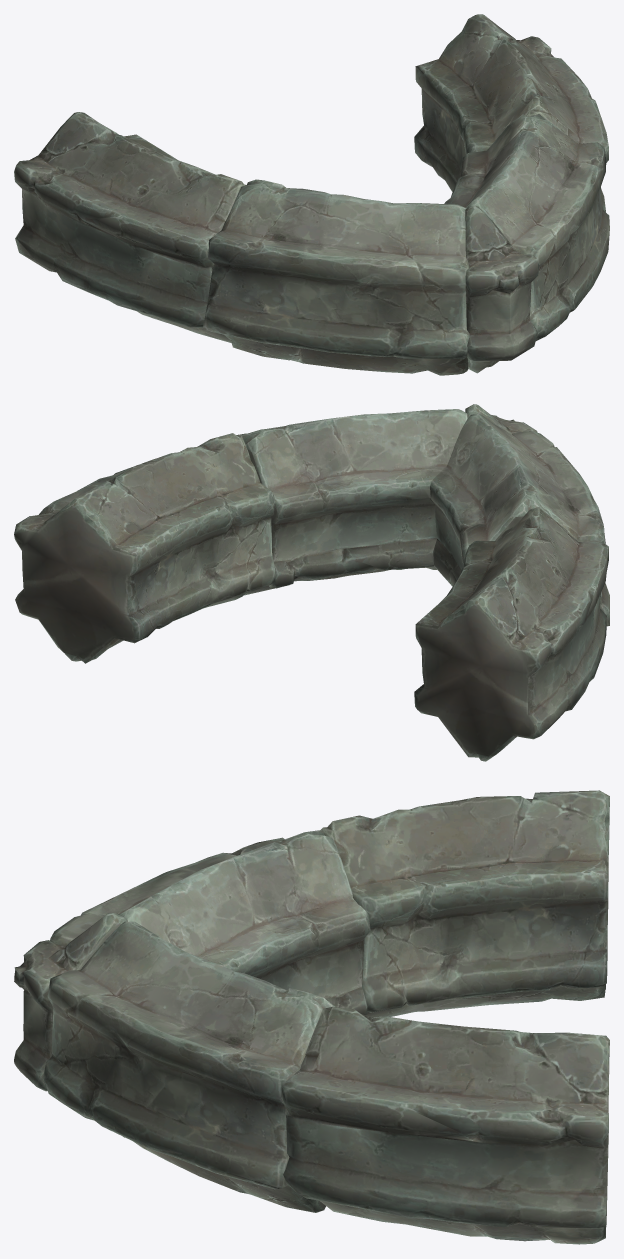
Rendered from Ruins_Pillar_5m_Arch_A.fbx.
3 views of the same model, one above another, from view 1: azimuth 30°, elevation 25°; view 2: azimuth 150°, elevation 25°; view 3: azimuth 270°, elevation 25° (orthographic). The views are drawn at different scales.
Parts seen in each view (by area): view 1: Ruins_Pillar_5m_Arch_A; view 2: Ruins_Pillar_5m_Arch_A; view 3: Ruins_Pillar_5m_Arch_A.
Boxes of the visible parts, x1,y1,x2,y2 form: Ruins_Pillar_5m_Arch_A: (14, 14, 609, 375); Ruins_Pillar_5m_Arch_A: (14, 404, 609, 761); Ruins_Pillar_5m_Arch_A: (14, 790, 609, 1244).
Size of the model in its own units: 1270 by 387 by 1000.
